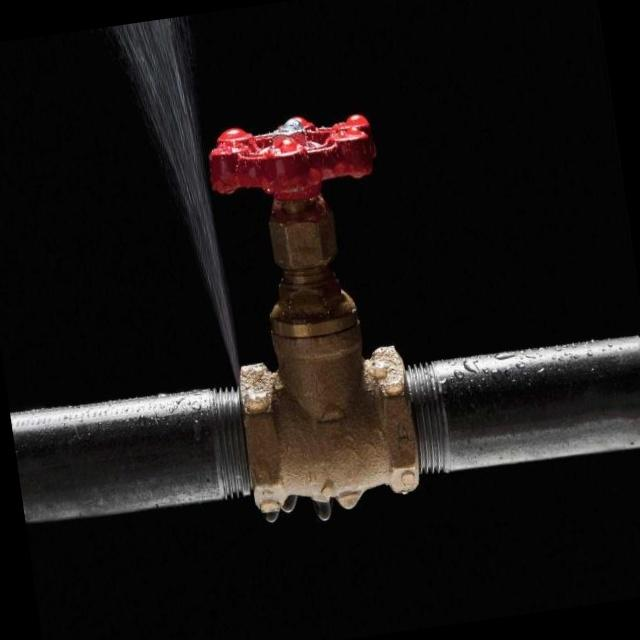Leak: (165, 247, 281, 443)
